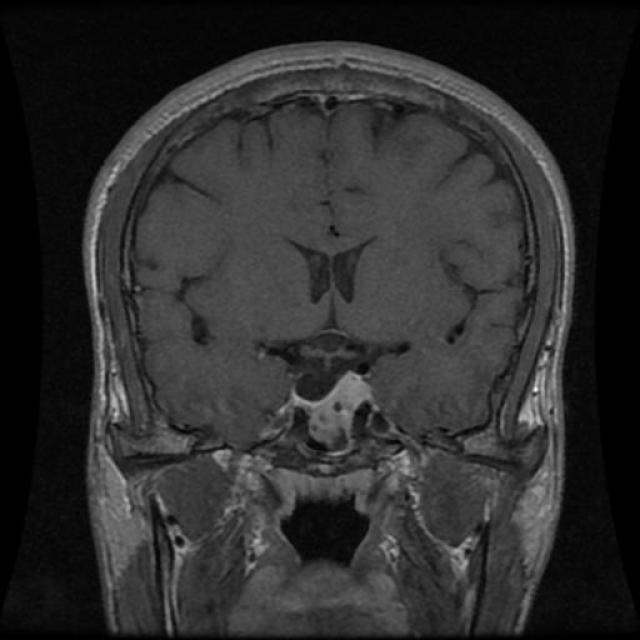pituitary: (268, 353, 403, 448)
